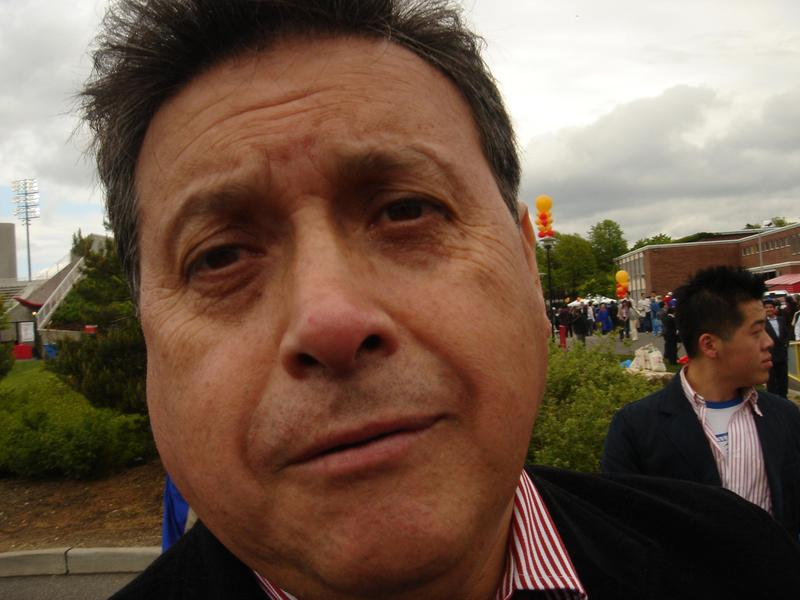person: (95, 1, 779, 595), (598, 266, 800, 474)
